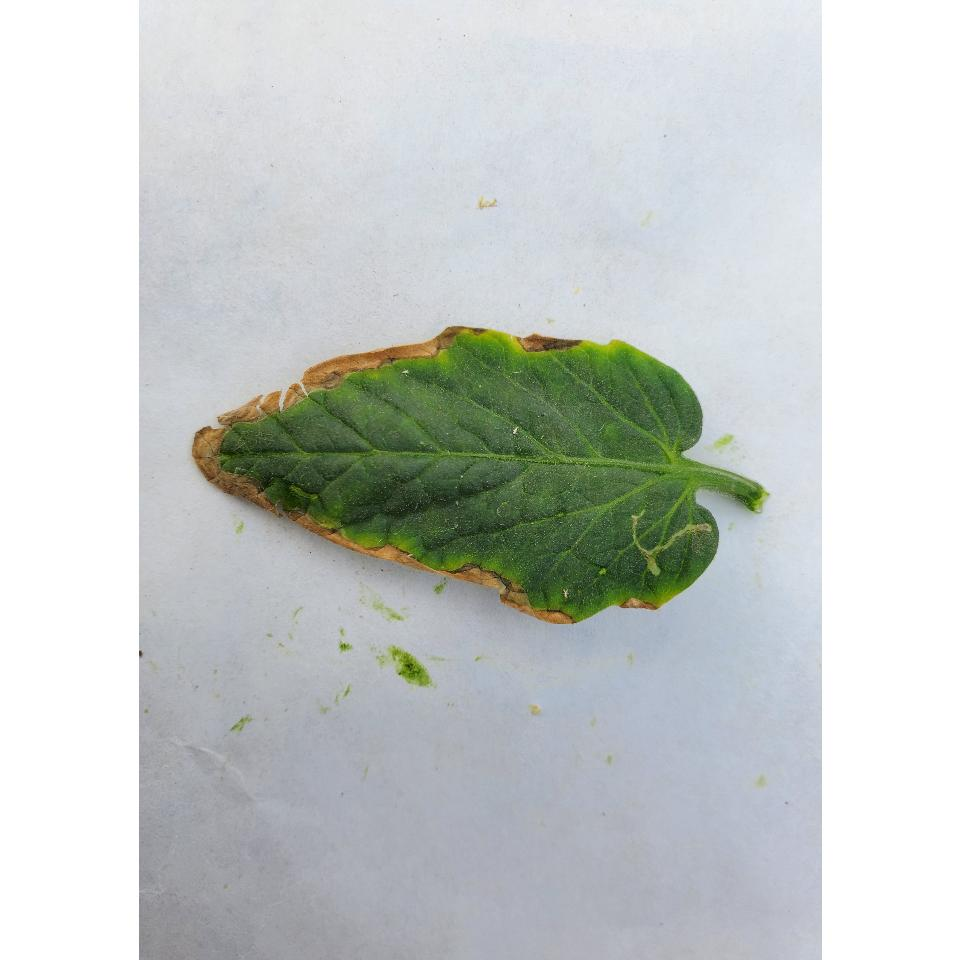tomato_bacterial_blight: (203, 324, 768, 628)
